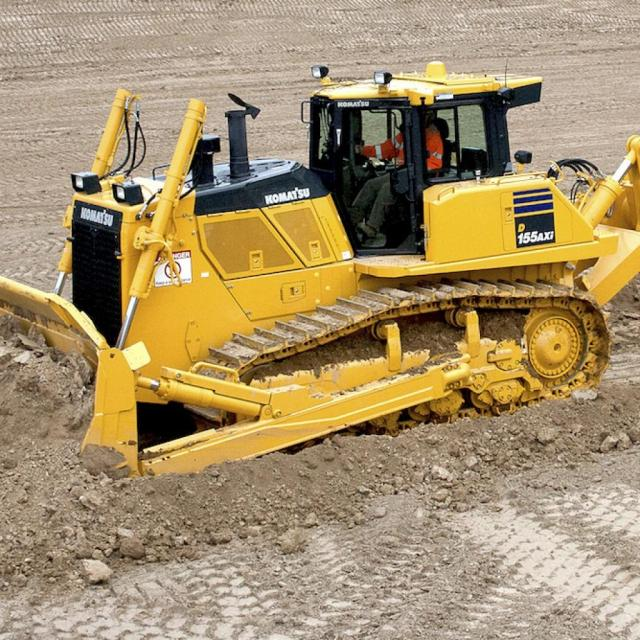buldozerpayloadergrader: (11, 48, 640, 500)
